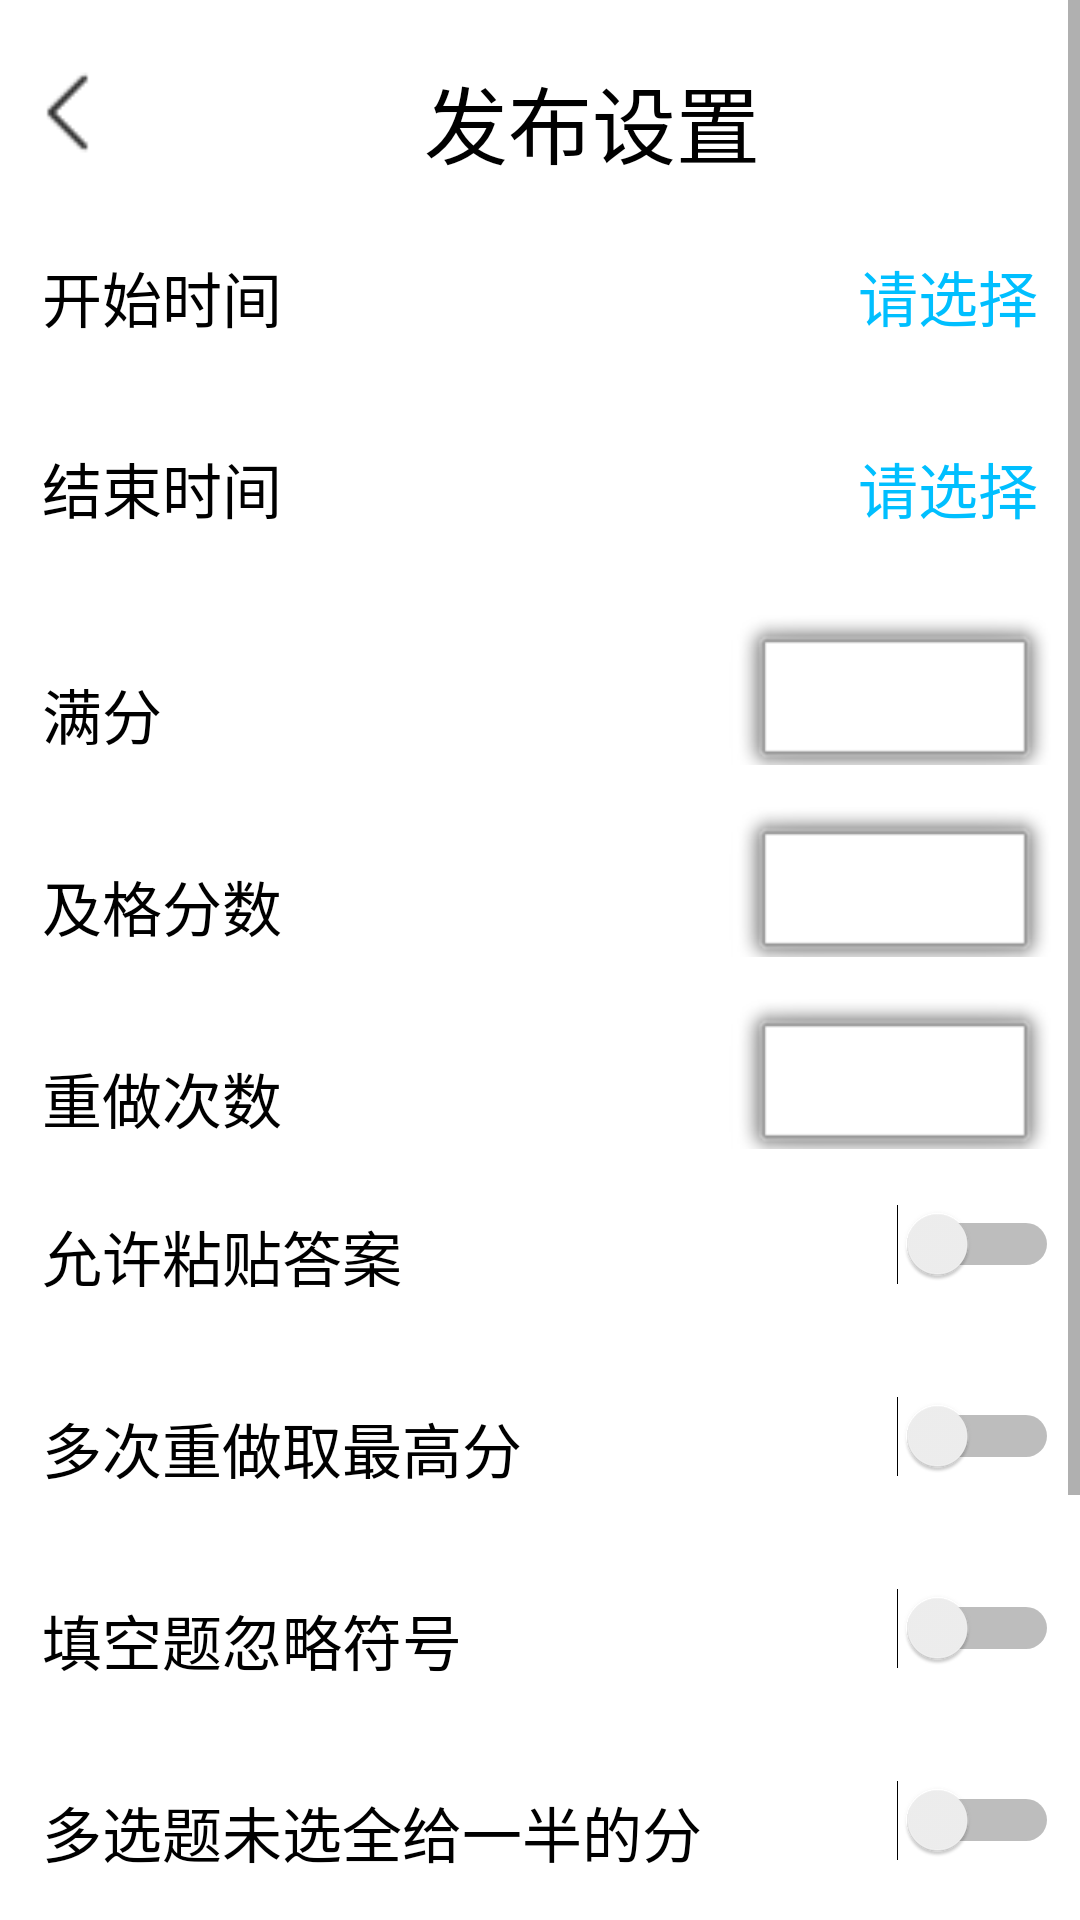

Named icons in this screenshot (1080w x 1920h) and their centers, point (x, y):
left: point (67, 112)
